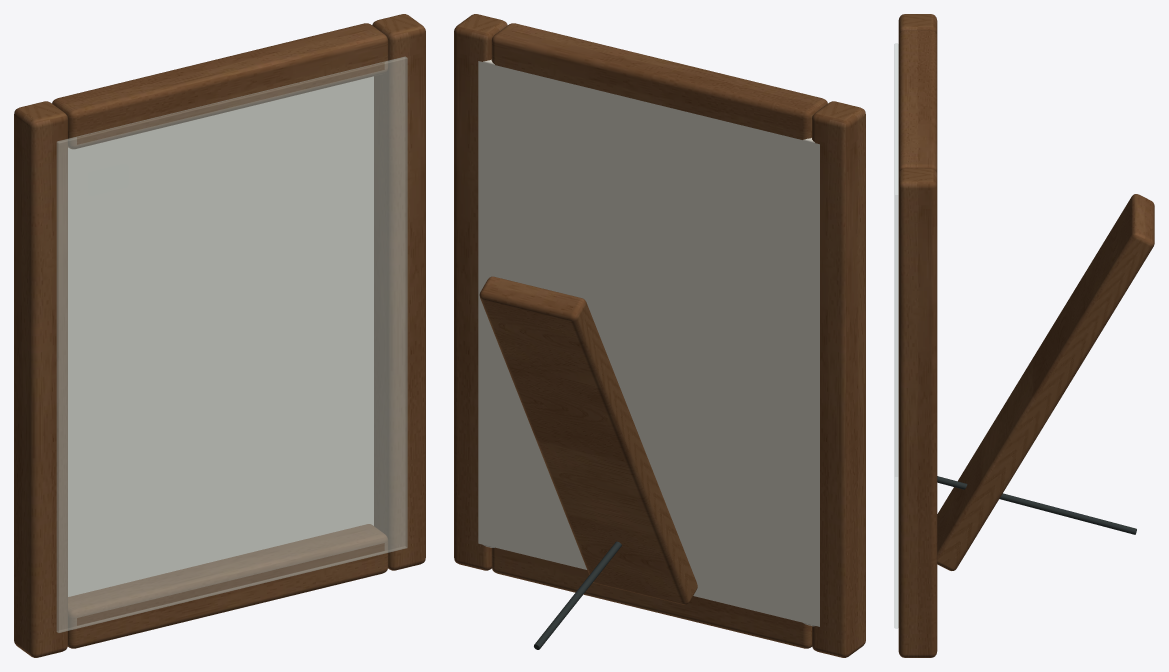
The model's file is crime-photo-frame.glb.
The picture shows the model from 3 angles, left to right: view 1: azimuth 30°, elevation 25°; view 2: azimuth 150°, elevation 25°; view 3: azimuth 270°, elevation 25°; orthographic projection. The views are drawn at different scales.
Parts seen in each view (by area): view 1: Clear protective picture glazing, Unprinted frame insert, Deep picture frame upright, Deep picture frame upright.001, Deep picture frame cross rail.001, Deep picture frame cross rail; view 2: Unprinted frame insert, Hinged rear easel strut, Deep picture frame upright, Deep picture frame cross rail.001, Deep picture frame upright.001, Deep picture frame cross rail, Easel limiting cord; view 3: Deep picture frame upright.001, Hinged rear easel strut, Deep picture frame cross rail.001, Clear protective picture glazing, Easel limiting cord, Deep picture frame upright.
Boxes of the visible parts, x1,y1,x2,y2 form: Clear protective picture glazing: (56, 56, 407, 632); Unprinted frame insert: (68, 76, 373, 596); Deep picture frame upright: (14, 101, 67, 657); Deep picture frame upright.001: (372, 14, 425, 570); Deep picture frame cross rail.001: (52, 23, 388, 149); Deep picture frame cross rail: (67, 524, 388, 648); Unprinted frame insert: (478, 59, 819, 626); Hinged rear easel strut: (479, 276, 697, 604); Deep picture frame upright: (812, 101, 865, 657); Deep picture frame cross rail.001: (491, 23, 827, 139); Deep picture frame upright.001: (454, 14, 507, 570); Deep picture frame cross rail: (491, 547, 812, 648); Easel limiting cord: (534, 541, 621, 649); Deep picture frame upright.001: (898, 168, 937, 657); Hinged rear easel strut: (937, 194, 1154, 570); Deep picture frame cross rail.001: (898, 30, 937, 174); Clear protective picture glazing: (894, 43, 898, 628); Easel limiting cord: (937, 476, 1136, 534); Deep picture frame upright: (898, 14, 937, 35).
Size of the model in its own units: 0.189 by 0.246 by 0.1215.
Materials: 5 (5 with a texture image).
